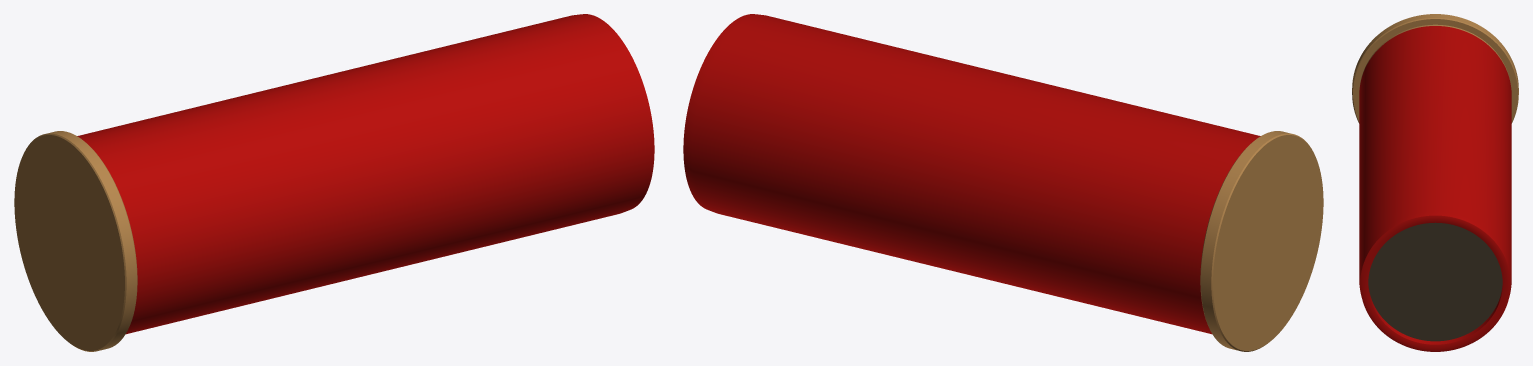
The model's file is round-12_h_gauge_h_00_h_buck.glb.
The picture shows the model from 3 angles, left to right: view 1: azimuth 30°, elevation 25°; view 2: azimuth 150°, elevation 25°; view 3: azimuth 270°, elevation 25°; orthographic projection. The views are drawn at different scales.
Parts seen in each view (by area): view 1: cartridge:cartridge-model; view 2: cartridge:cartridge-model; view 3: cartridge:cartridge-model.
Part boxes in pixels (bbox=[...]): cartridge:cartridge-model: bbox=[14, 14, 654, 351]; cartridge:cartridge-model: bbox=[683, 14, 1323, 351]; cartridge:cartridge-model: bbox=[1352, 14, 1518, 351].
Size of the model in its own units: 0.0622 by 0.0225 by 0.0225.
